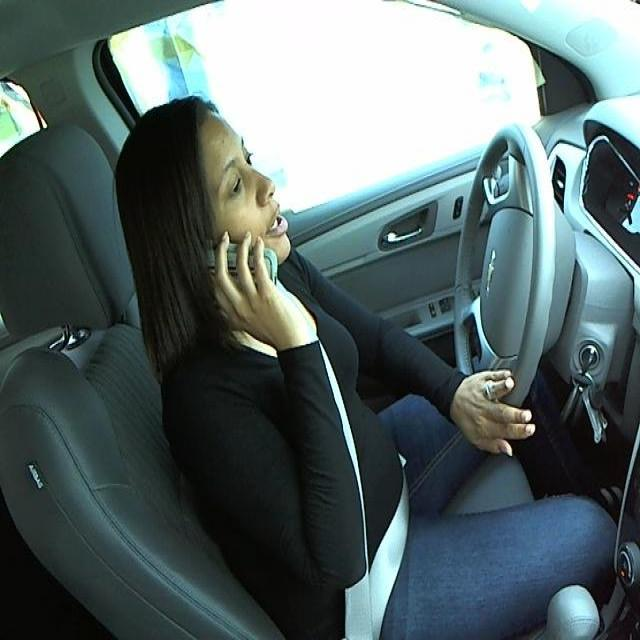using_phone: (88, 76, 326, 341)
